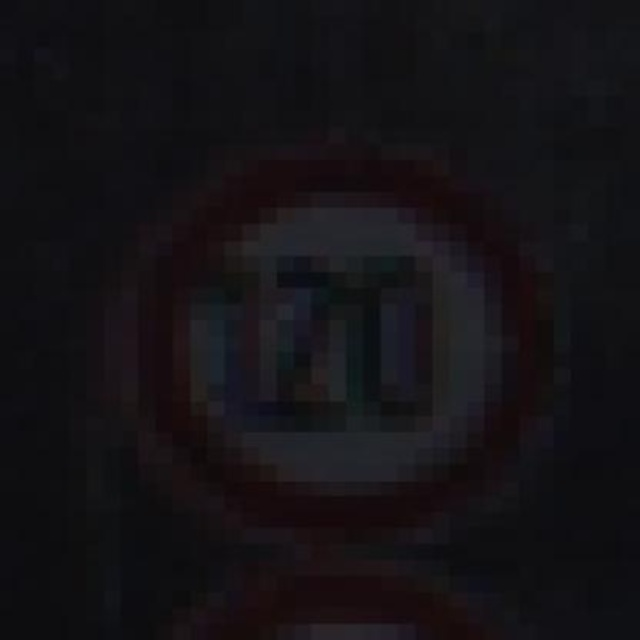Tốc độ tối đa cho phép 120km/h: (151, 155, 545, 535)
